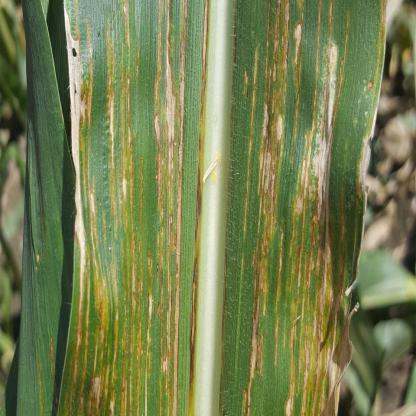Corn leaf blight: (62, 2, 384, 416)
